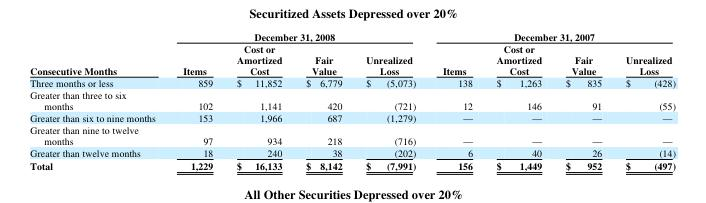table: (29, 29, 675, 172)
table column: (29, 29, 168, 172), (353, 29, 428, 172), (483, 29, 553, 172), (224, 29, 293, 172), (613, 29, 675, 172), (293, 29, 353, 172), (553, 29, 613, 172), (168, 29, 224, 172), (428, 29, 483, 172)
table column header: (29, 29, 675, 76)
table row: (29, 42, 675, 76), (29, 87, 675, 111), (29, 122, 675, 146), (29, 158, 675, 172), (29, 29, 675, 42), (29, 146, 675, 158), (29, 76, 675, 87), (29, 111, 675, 122)
table spanning cell: (29, 29, 168, 76), (168, 29, 428, 42), (428, 29, 675, 42)
